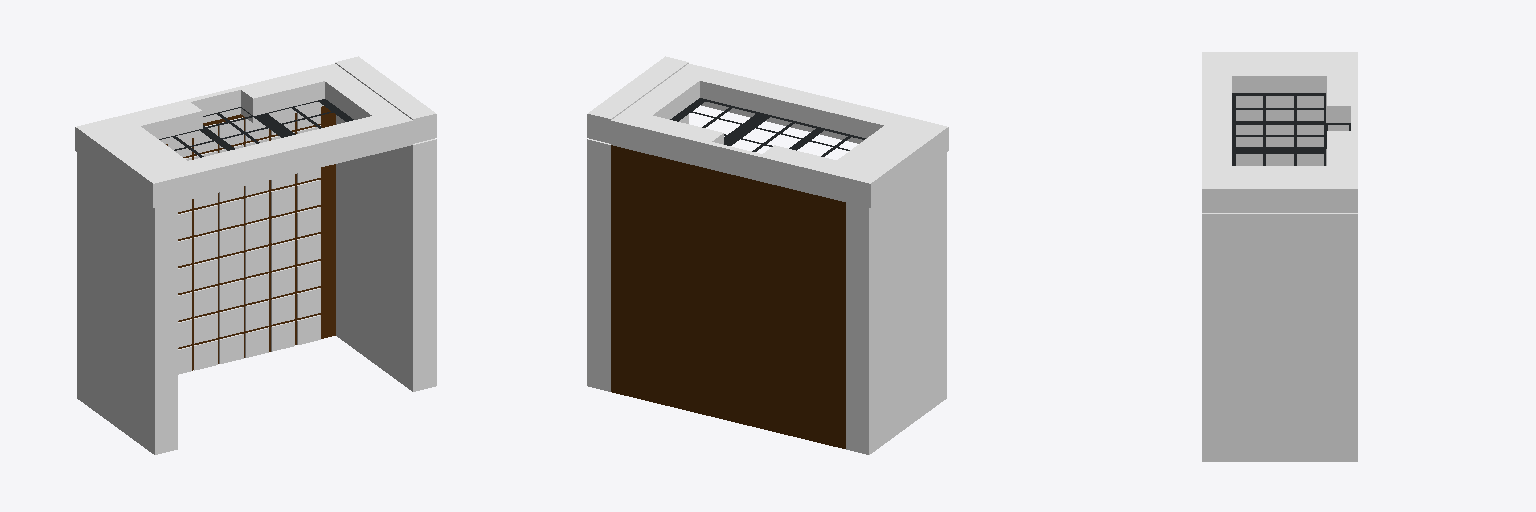
The model's file is tinker.obj.
3 renders of one model, left to right at view 1: azimuth 30°, elevation 25°; view 2: azimuth 150°, elevation 25°; view 3: azimuth 270°, elevation 25°, orthographic.
Visible parts, largest first — view 1: obj_0; view 2: obj_0; view 3: obj_0.
Part boxes in pixels (x1,y1,x2,y2): obj_0: (75,56,436,454); obj_0: (587,56,948,454); obj_0: (1202,52,1357,461).
Size of the model in its own units: 241 by 222 by 115.